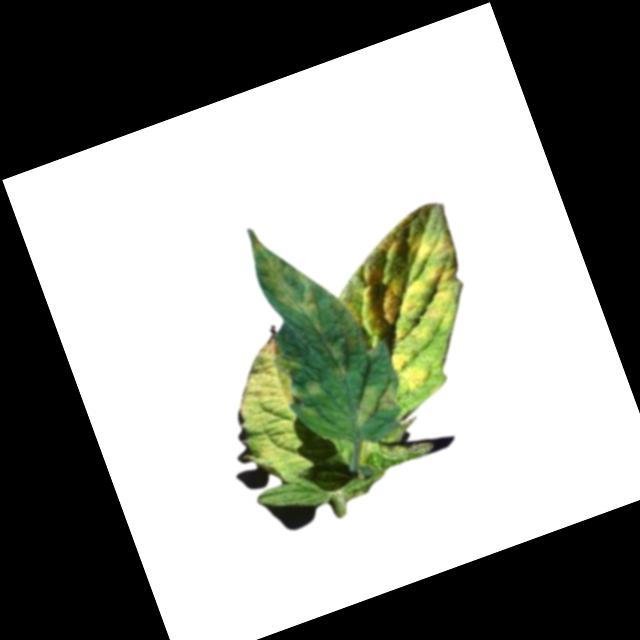Leaf_Mold: (321, 198, 483, 362), (213, 334, 324, 480), (244, 223, 329, 350), (337, 375, 401, 428), (387, 343, 435, 399), (320, 336, 354, 382)
